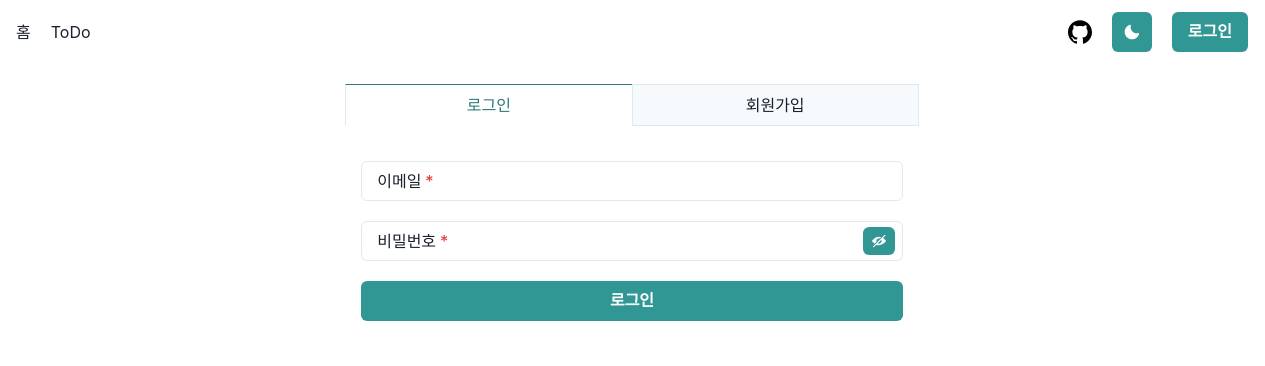
Test: 로그인 폼 유효성 검사 › 이메일 필숫값
Click the field with test id "emailInput".
click(632, 181)  # box left=361, top=161, right=903, bottom=201
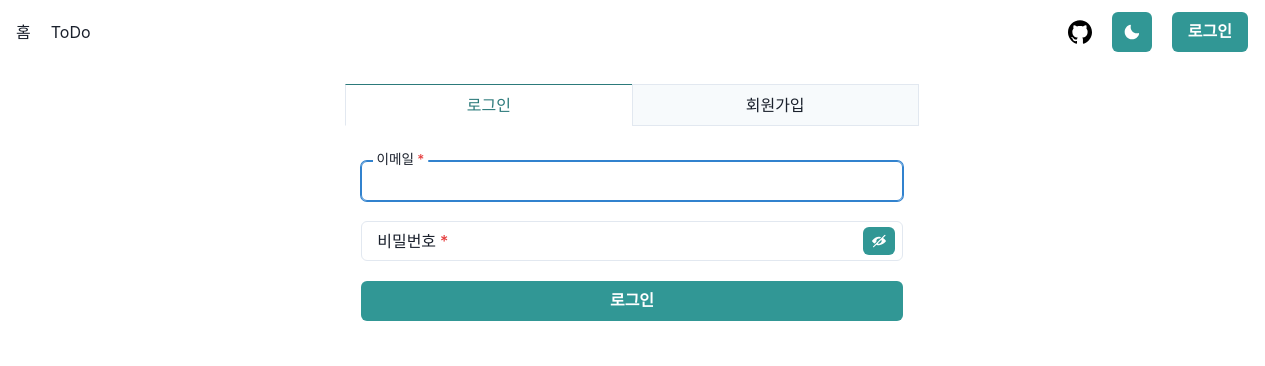
Click the password field with test id "passwordInput".
click(632, 241)  # box left=361, top=221, right=903, bottom=261
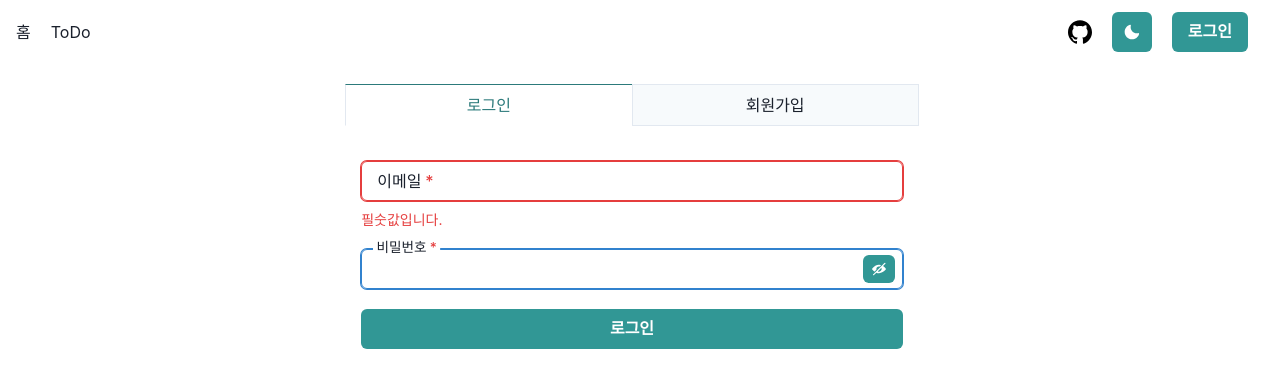
Check: the text with test id "emailErrorMessage" reads "필숫값입니다.", box left=361, top=211, right=442, bottom=228
